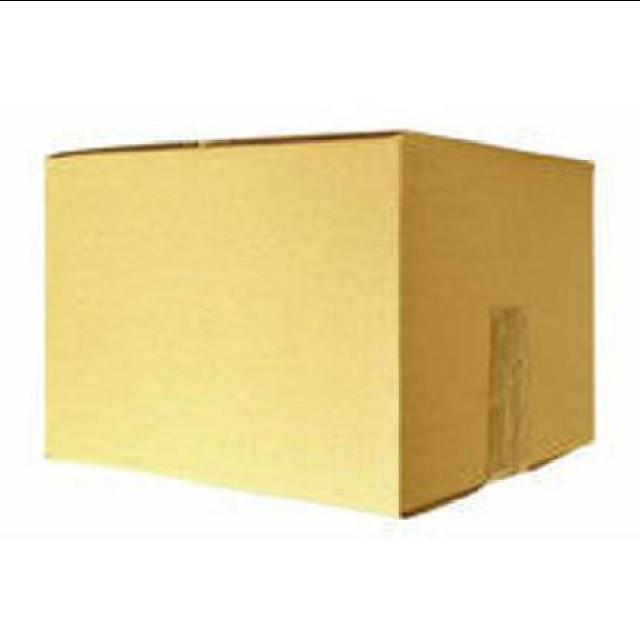normal: (43, 134, 599, 531)
